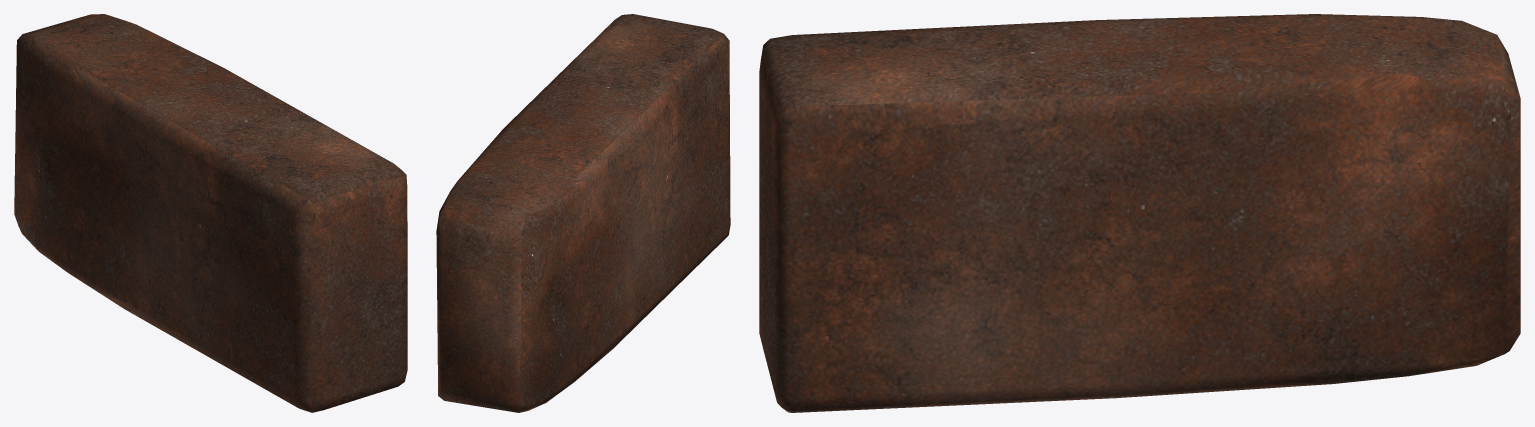
Rendered from doorKnobLock.obj.
3 renders of one model, left to right at view 1: azimuth 30°, elevation 25°; view 2: azimuth 150°, elevation 25°; view 3: azimuth 270°, elevation 25°, orthographic. The views are drawn at different scales.
Visible parts, largest first — view 1: Cube.009_Cube.010; view 2: Cube.009_Cube.010; view 3: Cube.009_Cube.010.
Boxes of the visible parts, bbox=[...] form: Cube.009_Cube.010: bbox=[14, 14, 407, 412]; Cube.009_Cube.010: bbox=[436, 14, 730, 412]; Cube.009_Cube.010: bbox=[759, 14, 1520, 412].
Size of the model in its own units: 0.0234 by 0.0326 by 0.0714.
Materials: 1 (1 with a texture image).
